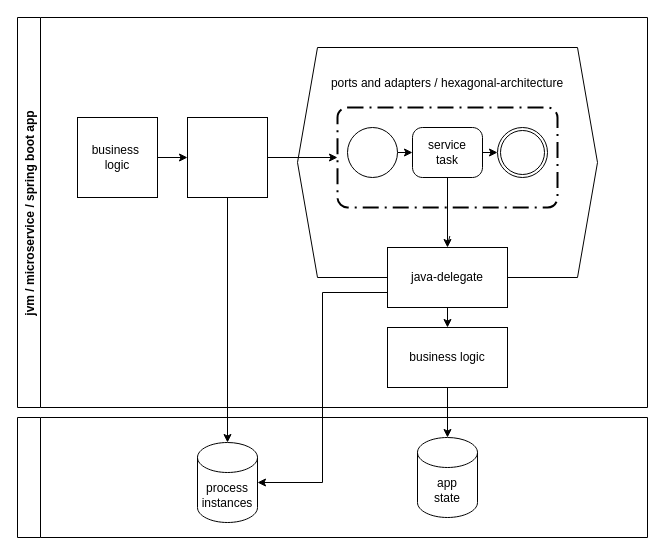
Some shapes in this 665 by 555 pixel diagram are drawn without their labels. The centre of each missing label's shape, as x and y in pixels:
shared / cloud: the point at 332,477
workflow engine: the point at 227,157
